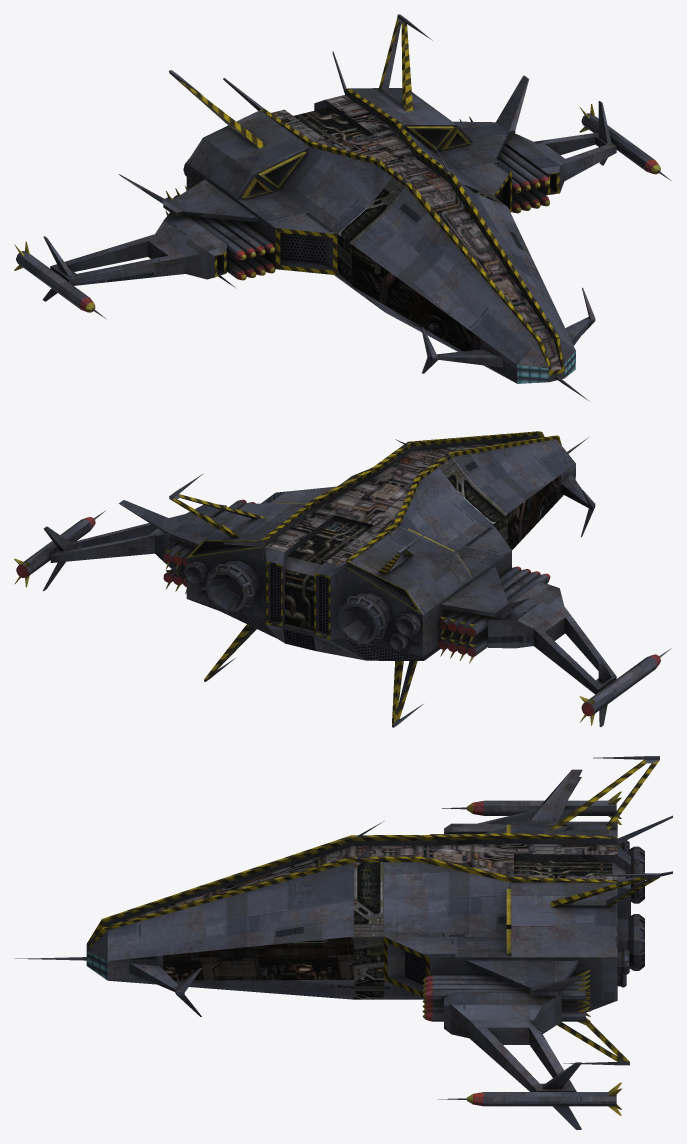
File: Cobra_Interceptor.obj
3 views of the same model, one above another, from view 1: azimuth 30°, elevation 25°; view 2: azimuth 150°, elevation 25°; view 3: azimuth 270°, elevation 25° (orthographic). The views are drawn at different scales.
Parts seen in each view (by area): view 1: Object01; view 2: Object01; view 3: Object01.
Part boxes in pixels (box(x1,y1,x2,y2)): Object01: box(14, 14, 671, 401); Object01: box(14, 431, 671, 727); Object01: box(15, 756, 672, 1129).
Size of the model in its own units: 68.48 by 21.64 by 64.14.
1 material, 1 textured.
